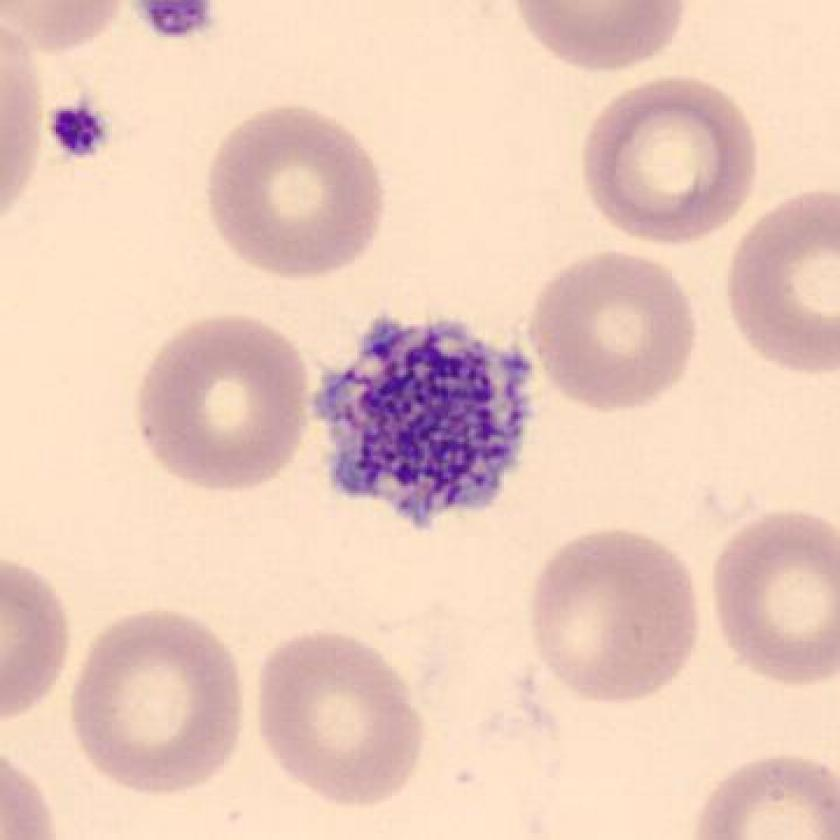platelets: (307, 302, 542, 538), (43, 96, 108, 163), (141, 1, 222, 47)
